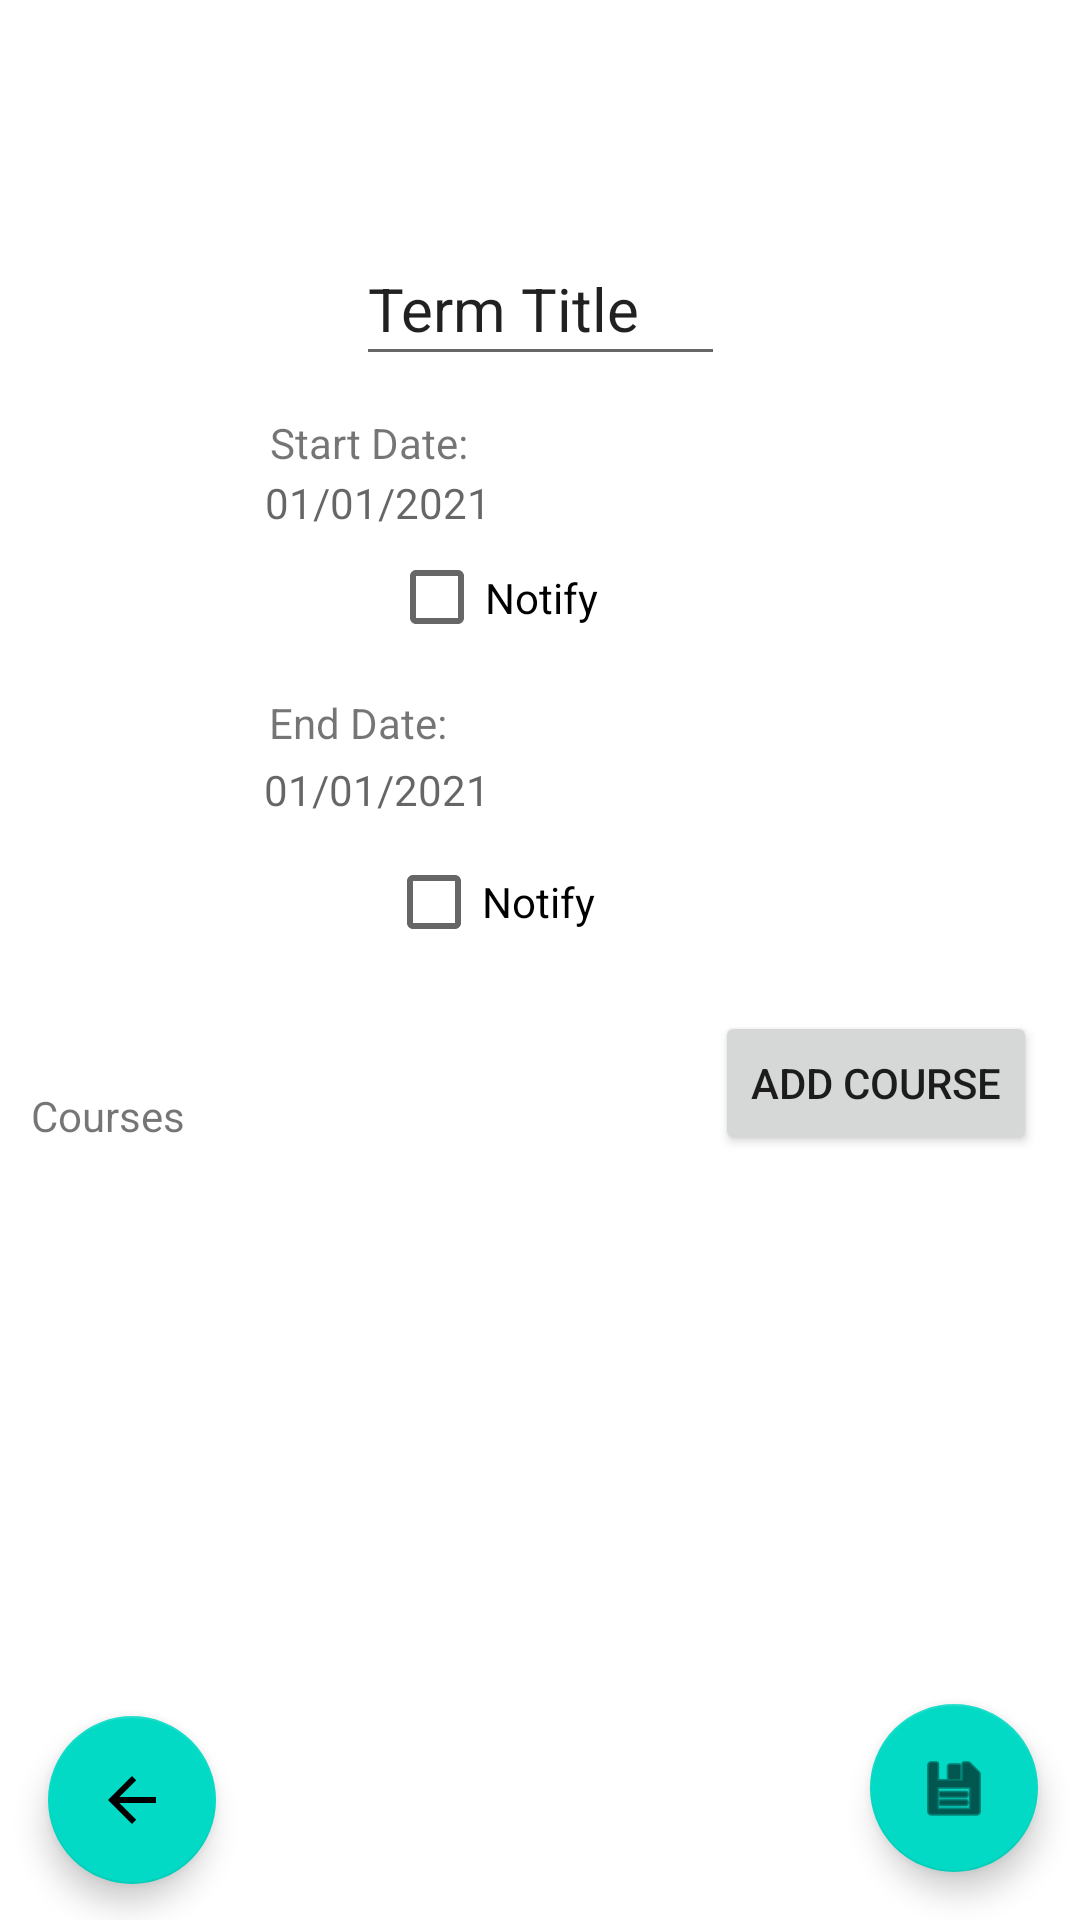

Icon click points for this 1080px x 1920px phone screenshot, format [x,y]:
save: [954,1788]
